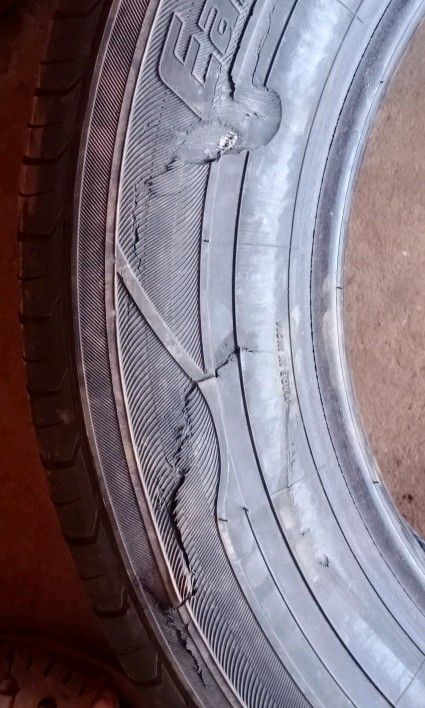cut: (164, 343, 271, 687), (129, 177, 144, 277)
